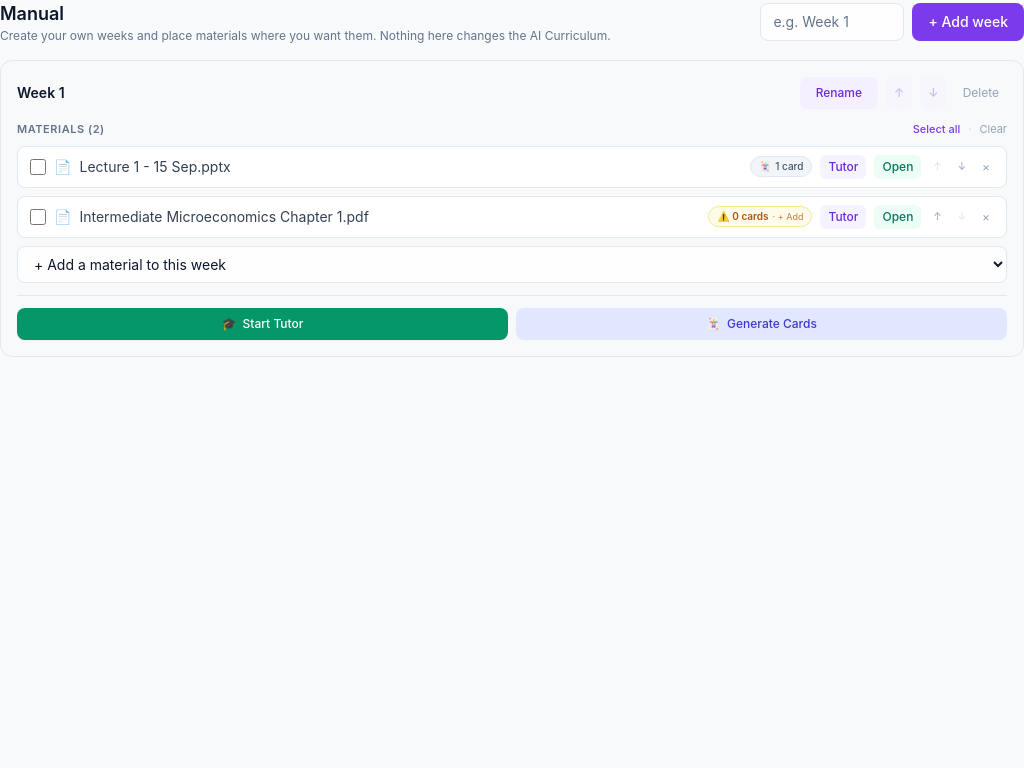
Test: ManualSyllabusView › opens GenerateCardsModal when Generate Cards button is clicked
Click Generate Cards
Click the button "🃏 Generate Cards" at [762, 324], box [516,308,1007,340]
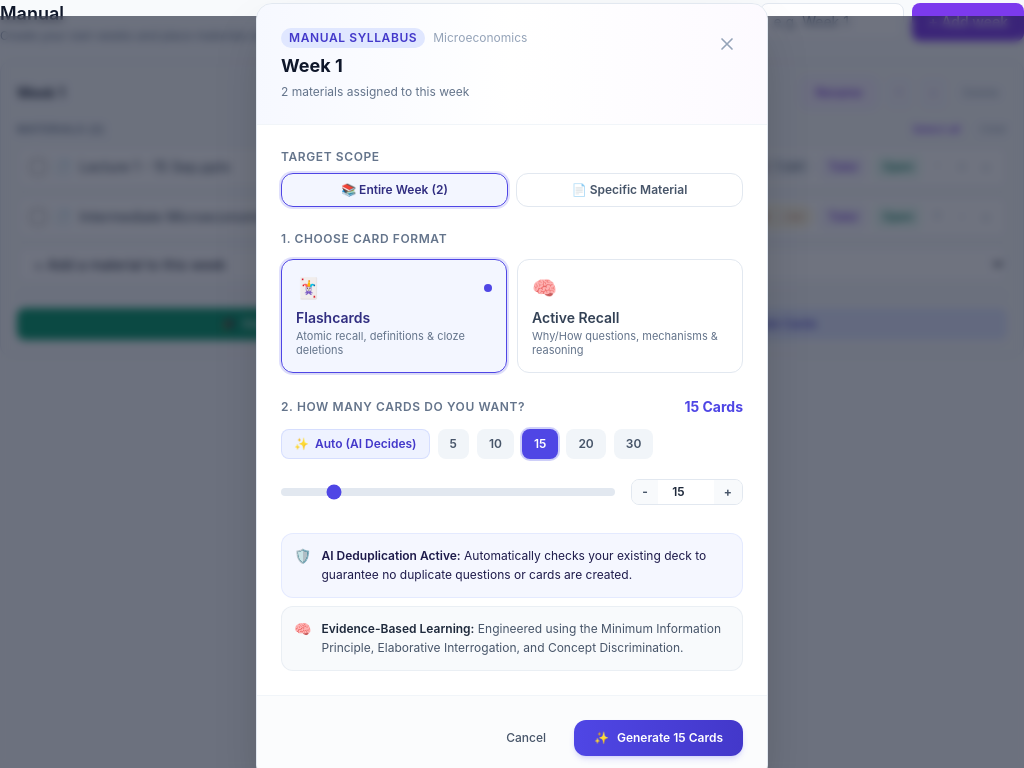
Now the dialog is shown
Now the text "Manual Syllabus" is shown, box [281,28,425,48]
Now the text "📚 Entire Week (2)" is shown, box [341,182,448,198]
